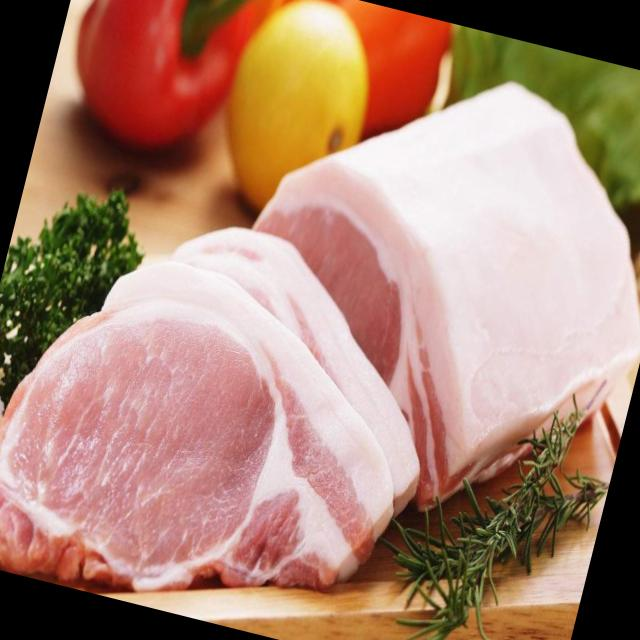--: (217, 18, 640, 496), (0, 239, 428, 640)
